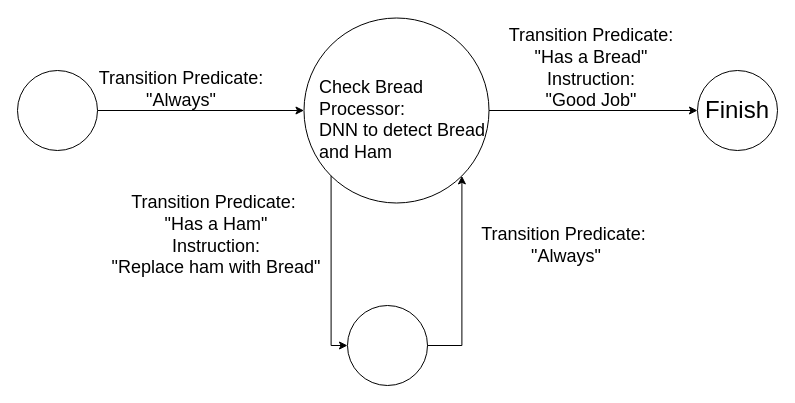
This 795x403 diagram has some shape labels left out. Each missing label, with the centre of its shape:
"Error: Ham" goes at (x=387, y=345).
"Start" goes at (x=57, y=110).
